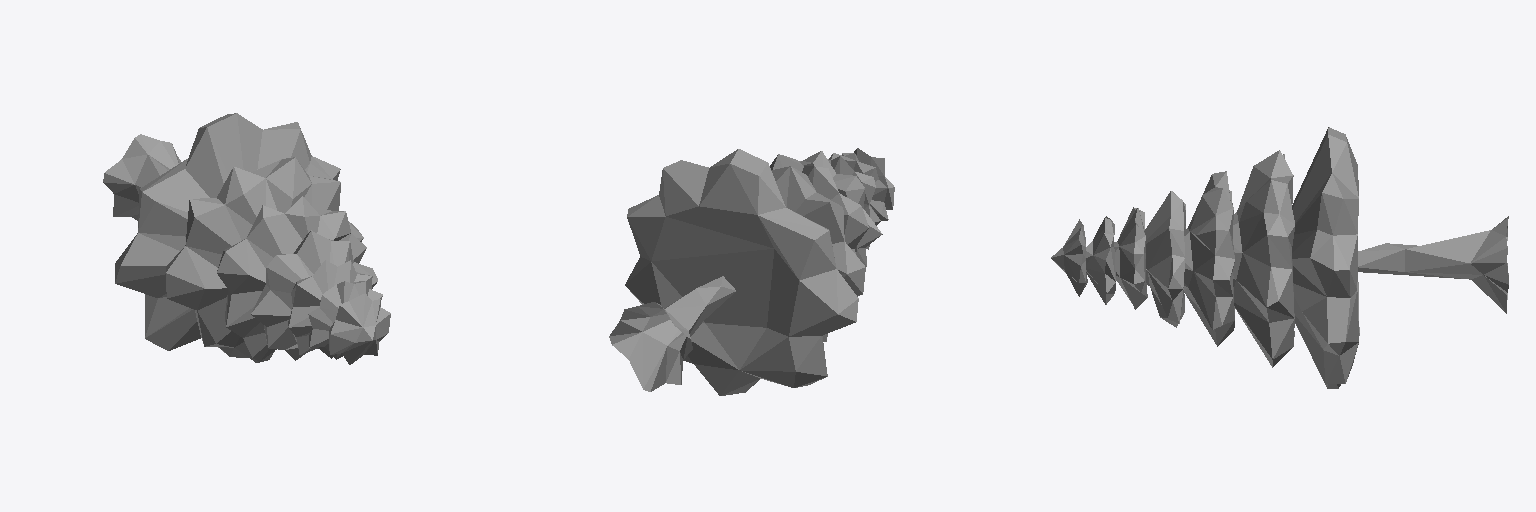
The model's file is cartoon3.obj.
3 views of the same model, side by side, from view 1: azimuth 30°, elevation 25°; view 2: azimuth 150°, elevation 25°; view 3: azimuth 270°, elevation 25° (orthographic).
Visible parts, largest first — view 1: pino_01_1_pino_7; view 2: pino_01_1_pino_7; view 3: pino_01_1_pino_7.
Part boxes in pixels (x1,y1,x2,y2): pino_01_1_pino_7: (103, 113, 390, 364); pino_01_1_pino_7: (609, 148, 894, 395); pino_01_1_pino_7: (1051, 127, 1508, 388).
Size of the model in its own units: 1.85 by 1.91 by 3.2.